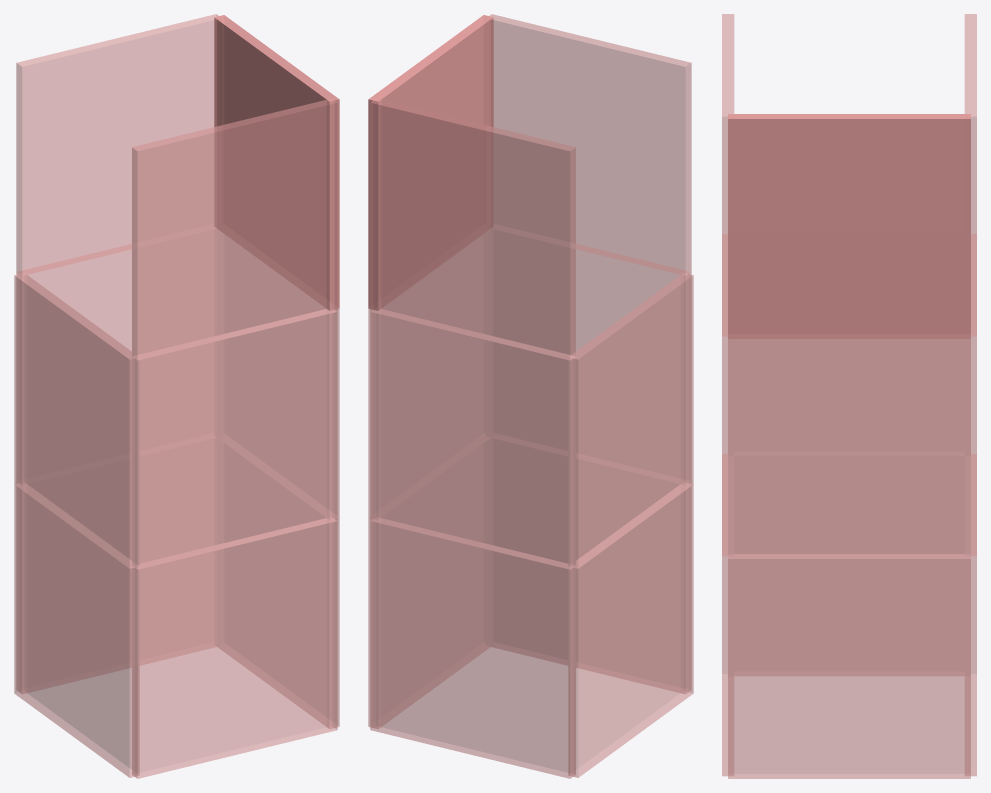
File: torre_step12.glb
The picture shows the model from 3 angles, left to right: view 1: azimuth 30°, elevation 25°; view 2: azimuth 150°, elevation 25°; view 3: azimuth 270°, elevation 25°; orthographic projection. The views are drawn at different scales.
Visible parts, largest first — view 1: qN.002, qN.001, qN, qS.002, qS.001, qS, qE.002, qW.001, qW, qE, qE.001; view 2: qS.002, qS.001, qS, qN.002, qN.001, qN, qE.002, qW.001, qW, qE, qE.001; view 3: qE.002, qE, qE.001, qW, qW.001, qN, qS, qN.001, qS.001, qN.002, qS.002.
Part boxes in pixels (<box>): qN.002: <box>132,99,337,360</box>; qN.001: <box>132,309,337,569</box>; qN: <box>132,518,337,778</box>; qS.002: <box>16,14,221,275</box>; qS.001: <box>16,229,215,484</box>; qS: <box>16,439,216,693</box>; qE.002: <box>214,15,339,310</box>; qW.001: <box>14,274,139,568</box>; qW: <box>14,483,139,777</box>; qE: <box>217,442,339,728</box>; qE.001: <box>219,233,339,519</box>; qS.002: <box>370,99,575,360</box>; qS.001: <box>370,309,575,569</box>; qS: <box>370,518,575,778</box>; qN.002: <box>486,14,691,275</box>; qN.001: <box>491,229,691,484</box>; qN: <box>491,439,691,693</box>; qE.002: <box>368,15,493,310</box>; qW.001: <box>568,274,693,568</box>; qW: <box>568,483,693,777</box>; qE: <box>368,442,490,728</box>; qE.001: <box>368,233,488,519</box>; qE.002: <box>728,114,970,338</box>; qE: <box>728,554,970,778</box>; qE.001: <box>728,339,970,558</box>; qW: <box>734,456,964,675</box>; qW.001: <box>734,339,964,455</box>; qN: <box>722,454,733,776</box>; qS: <box>965,454,976,776</box>; qN.001: <box>722,234,733,556</box>; qS.001: <box>965,234,976,556</box>; qN.002: <box>722,14,734,336</box>; qS.002: <box>964,14,976,336</box>.
Size of the model in its own units: 1.05 by 3 by 1.05.
